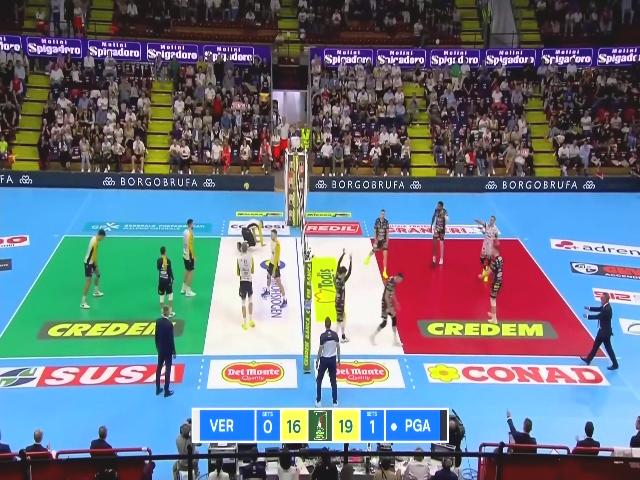volleyball court: (0, 236, 602, 355)
